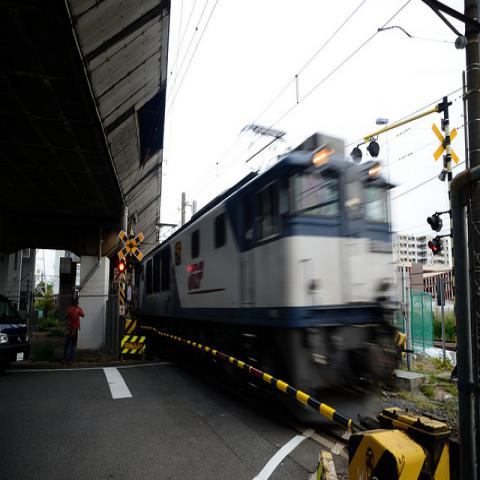car: (0, 294, 31, 374)
